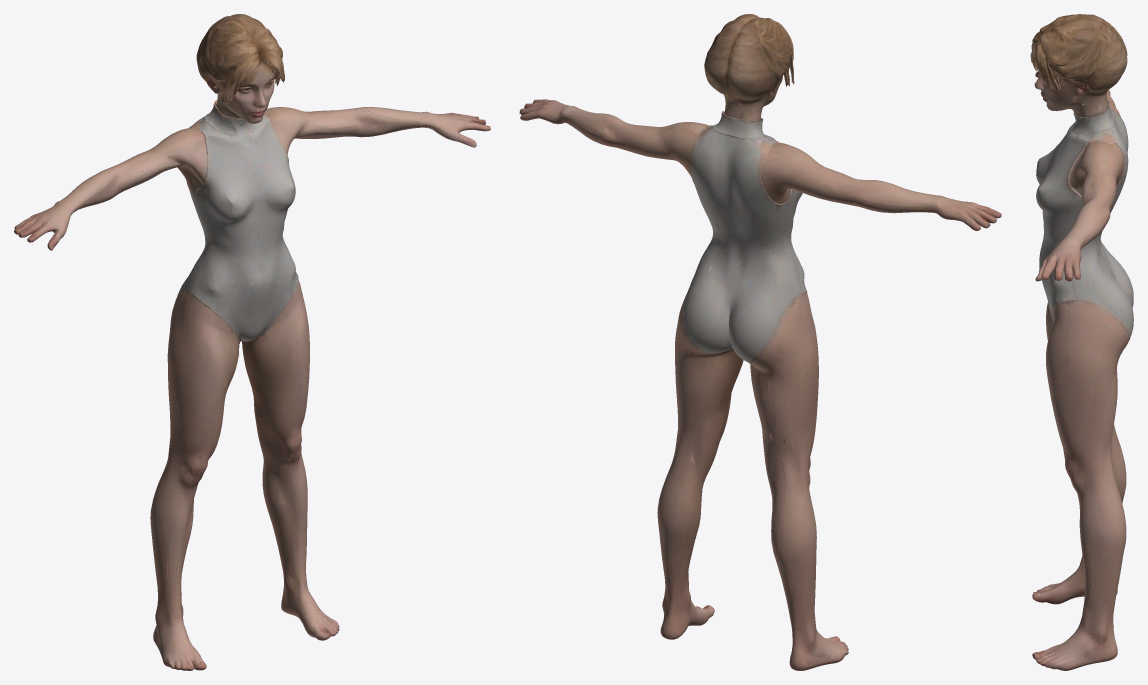
The model's file is lidia.glb.
3 views of the same model, side by side, from view 1: azimuth 30°, elevation 25°; view 2: azimuth 150°, elevation 25°; view 3: azimuth 270°, elevation 25° (orthographic). The views are drawn at different scales.
Parts seen in each view (by area): view 1: node_0; view 2: node_0; view 3: node_0.
Boxes of the visible parts, x1,y1,x2,y2 form: node_0: (14,14,490,670); node_0: (519,14,1001,670); node_0: (1030,14,1133,670).
Bounding box in the file's own units: 0.9081 × 1.16 × 0.1771.
Materials: 1 (1 with a texture image).
